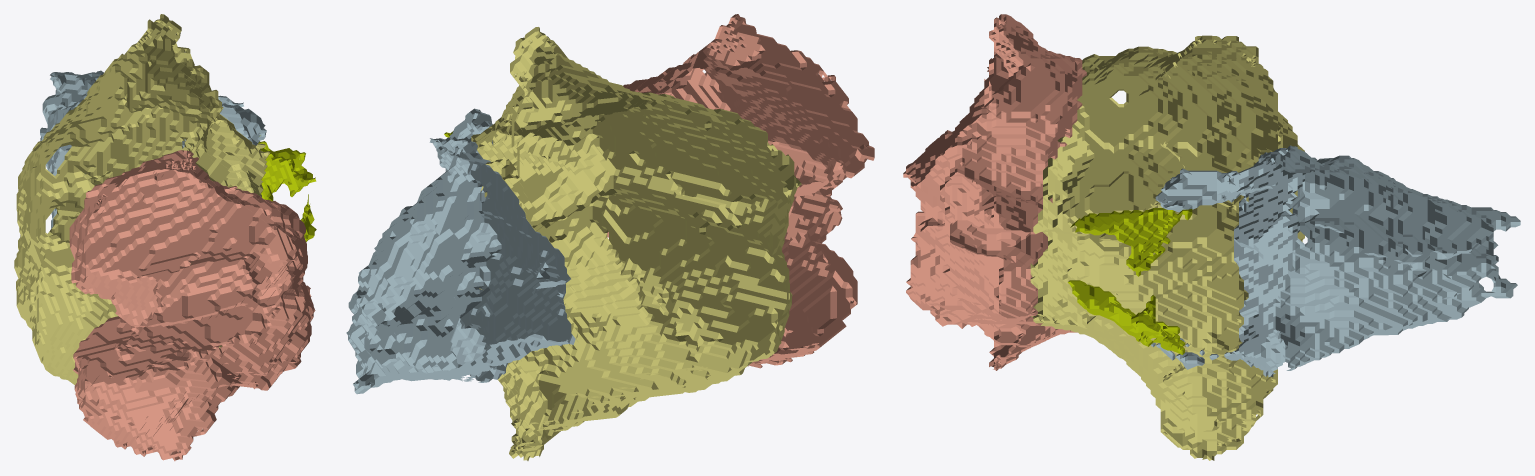
Rendered from brainstemSsLabels.glb.
The picture shows the model from 3 angles, left to right: view 1: azimuth 30°, elevation 25°; view 2: azimuth 150°, elevation 25°; view 3: azimuth 270°, elevation 25°; orthographic projection. The views are drawn at different scales.
Visible parts, largest first — view 1: 173_Midbrain, 174_Pons, 175_Medulla, 178_SCP; view 2: 174_Pons, 175_Medulla, 173_Midbrain; view 3: 174_Pons, 175_Medulla, 173_Midbrain, 178_SCP.
Boxes of the visible parts, <box> form: 173_Midbrain: <box>69,150,315,461</box>; 174_Pons: <box>14,14,270,384</box>; 175_Medulla: <box>40,70,266,229</box>; 178_SCP: <box>258,135,316,241</box>; 174_Pons: <box>471,27,801,460</box>; 175_Medulla: <box>346,108,575,394</box>; 173_Midbrain: <box>607,14,874,368</box>; 174_Pons: <box>1030,35,1304,460</box>; 175_Medulla: <box>1151,145,1520,377</box>; 173_Midbrain: <box>903,14,1086,370</box>; 178_SCP: <box>1068,208,1192,354</box>.
Bounding box in the file's own units: 41 × 47.5 × 63.
